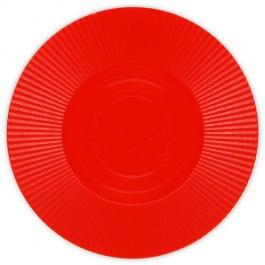chip-red: (8, 8, 258, 257)
